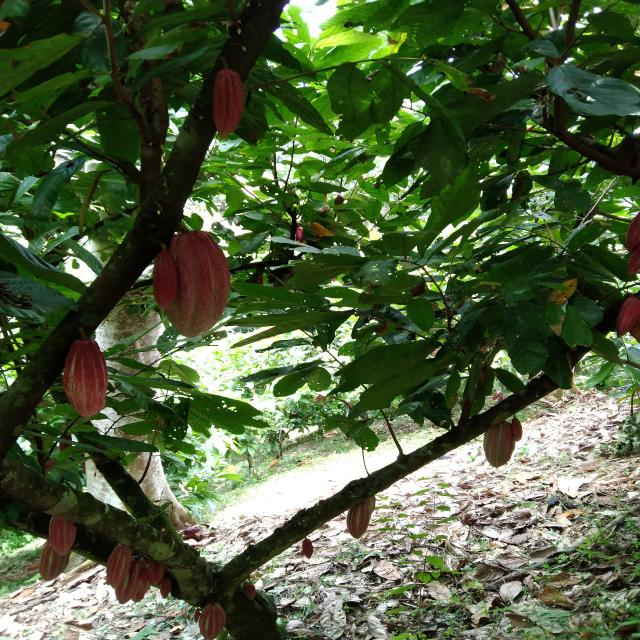Sana: (160, 231, 230, 336), (65, 338, 111, 417), (208, 70, 245, 142), (151, 248, 182, 312), (102, 543, 130, 590), (488, 424, 518, 466), (46, 514, 76, 556), (40, 540, 64, 580), (348, 501, 371, 540), (116, 562, 135, 608), (202, 600, 220, 636), (293, 534, 319, 558), (508, 414, 527, 445), (138, 565, 147, 603), (150, 563, 163, 584), (160, 578, 171, 598), (243, 581, 256, 597), (182, 529, 202, 534)
